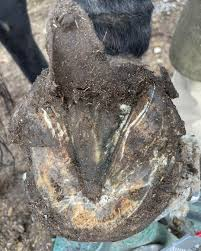horsesole: (7, 68, 187, 242)
